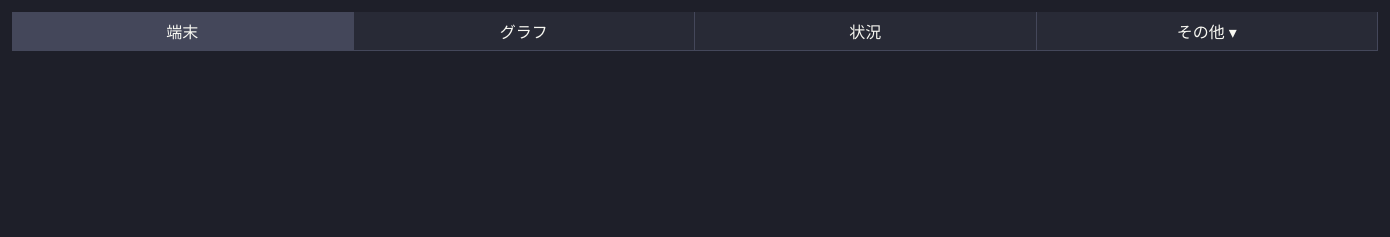
it: keeps three primary screens and moves secondary screens into a separately named menu
The width and height of the screenshot is (1390, 237).
Click the button "その他 ▾" at (1207, 31), box top-left (1036, 12), bottom-right (1378, 50)
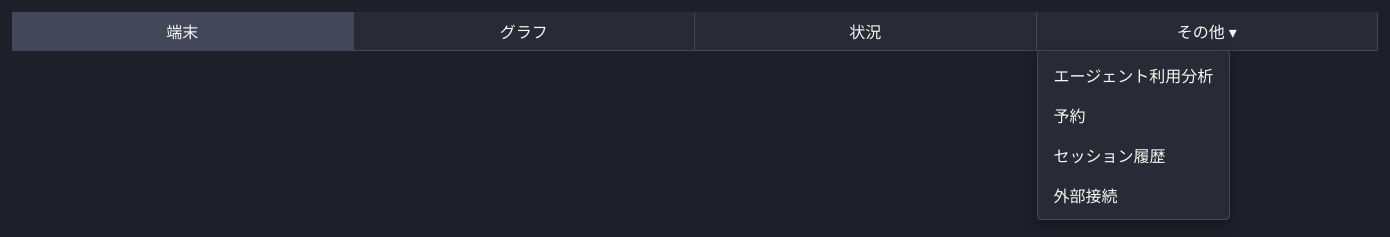
Check: the navigation bar shows "セッション履歴"
Click the button "セッション履歴" at (1133, 155), box top-left (1042, 135), bottom-right (1225, 175)
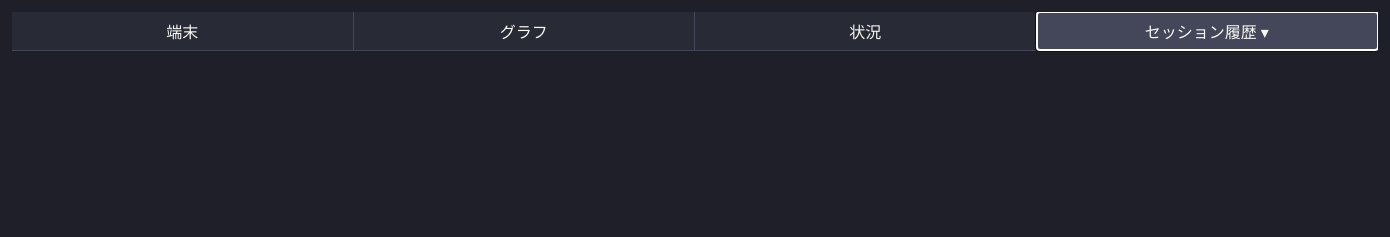
Check: the button "セッション履歴 ▾" is shown, box top-left (1036, 12), bottom-right (1378, 50)
